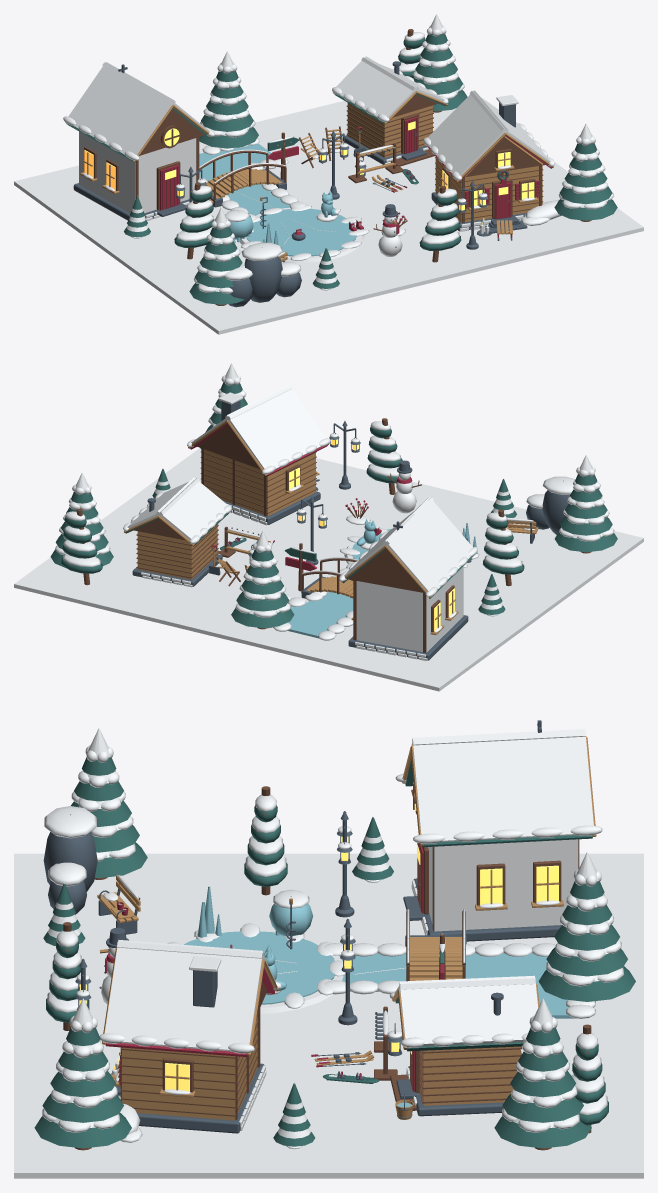
The model's file is frozen_lake_retreat.glb.
3 renders of one model, top to bottom at view 1: azimuth 30°, elevation 25°; view 2: azimuth 150°, elevation 25°; view 3: azimuth 270°, elevation 25°, orthographic. The views are drawn at different scales.
Visible parts, largest first — view 1: 032-snowfall-mountain-chapel/snowfall-mountain-chapel-snow, 030-chalet-evergreen/chalet-evergreen-snow, 031-cedar-sauna-house/cedar-sauna-house-snow, 033-frozen-skating-pond/frozen-skating-pond-ice, 014-packed-snow-tile/packed-snow-tile-snow, 030-chalet-evergreen/chalet-evergreen-oak, 030-chalet-evergreen/chalet-evergreen-wood, 002-packed-snow-tile/packed-snow-tile-snow, 019-packed-snow-tile/packed-snow-tile-snow, 017-packed-snow-tile/packed-snow-tile-snow, 024-packed-snow-tile/packed-snow-tile-snow, 004-packed-snow-tile/packed-snow-tile-snow (+48 smaller); view 2: 032-snowfall-mountain-chapel/snowfall-mountain-chapel-snow, 030-chalet-evergreen/chalet-evergreen-snow, 030-chalet-evergreen/chalet-evergreen-oak, 031-cedar-sauna-house/cedar-sauna-house-snow, 020-packed-snow-tile/packed-snow-tile-snow, 030-chalet-evergreen/chalet-evergreen-wood, 031-cedar-sauna-house/cedar-sauna-house-oak, 003-packed-snow-tile/packed-snow-tile-snow, 000-packed-snow-tile/packed-snow-tile-snow, 015-packed-snow-tile/packed-snow-tile-snow, 025-packed-snow-tile/packed-snow-tile-snow, 002-packed-snow-tile/packed-snow-tile-snow (+42 smaller); view 3: 032-snowfall-mountain-chapel/snowfall-mountain-chapel-snow, 030-chalet-evergreen/chalet-evergreen-snow, 031-cedar-sauna-house/cedar-sauna-house-snow, 030-chalet-evergreen/chalet-evergreen-oak, 026-packed-snow-tile/packed-snow-tile-snow, 027-packed-snow-tile/packed-snow-tile-snow, 028-packed-snow-tile/packed-snow-tile-snow, 003-packed-snow-tile/packed-snow-tile-snow, 022-packed-snow-tile/packed-snow-tile-snow, 017-packed-snow-tile/packed-snow-tile-snow, 025-packed-snow-tile/packed-snow-tile-snow, 056-grand-alpine-fir/grand-alpine-fir-pine (+59 smaller).
Boxes of the visible parts, left/top/right/bottom form: 032-snowfall-mountain-chapel/snowfall-mountain-chapel-snow: left=63, top=62, right=214, bottom=220; 030-chalet-evergreen/chalet-evergreen-snow: left=423, top=90, right=554, bottom=231; 031-cedar-sauna-house/cedar-sauna-house-snow: left=332, top=56, right=448, bottom=164; 033-frozen-skating-pond/frozen-skating-pond-ice: left=246, top=209, right=356, bottom=256; 014-packed-snow-tile/packed-snow-tile-snow: left=333, top=251, right=431, bottom=299; 030-chalet-evergreen/chalet-evergreen-oak: left=435, top=133, right=554, bottom=222; 030-chalet-evergreen/chalet-evergreen-wood: left=435, top=138, right=544, bottom=222; 002-packed-snow-tile/packed-snow-tile-snow: left=96, top=224, right=204, bottom=274; 019-packed-snow-tile/packed-snow-tile-snow: left=397, top=232, right=502, bottom=282; 017-packed-snow-tile/packed-snow-tile-snow: left=309, top=172, right=419, bottom=217; 024-packed-snow-tile/packed-snow-tile-snow: left=462, top=223, right=572, bottom=265; 004-packed-snow-tile/packed-snow-tile-snow: left=177, top=297, right=289, bottom=334; 032-snowfall-mountain-chapel/snowfall-mountain-chapel-snow: left=339, top=497, right=477, bottom=660; 030-chalet-evergreen/chalet-evergreen-snow: left=187, top=384, right=330, bottom=525; 030-chalet-evergreen/chalet-evergreen-oak: left=188, top=420, right=329, bottom=516; 031-cedar-sauna-house/cedar-sauna-house-snow: left=123, top=477, right=231, bottom=587; 020-packed-snow-tile/packed-snow-tile-snow: left=85, top=571, right=196, bottom=622; 030-chalet-evergreen/chalet-evergreen-wood: left=197, top=424, right=316, bottom=516; 031-cedar-sauna-house/cedar-sauna-house-oak: left=124, top=515, right=217, bottom=579; 003-packed-snow-tile/packed-snow-tile-snow: left=494, top=550, right=602, bottom=601; 000-packed-snow-tile/packed-snow-tile-snow: left=368, top=648, right=480, bottom=691; 015-packed-snow-tile/packed-snow-tile-snow: left=155, top=589, right=241, bottom=639; 025-packed-snow-tile/packed-snow-tile-snow: left=14, top=557, right=125, bottom=604; 002-packed-snow-tile/packed-snow-tile-snow: left=463, top=581, right=561, bottom=631; 032-snowfall-mountain-chapel/snowfall-mountain-chapel-snow: left=395, top=729, right=602, bottom=935; 030-chalet-evergreen/chalet-evergreen-snow: left=99, top=939, right=281, bottom=1130; 031-cedar-sauna-house/cedar-sauna-house-snow: left=389, top=975, right=538, bottom=1105; 030-chalet-evergreen/chalet-evergreen-oak: left=102, top=947, right=278, bottom=1120; 026-packed-snow-tile/packed-snow-tile-snow: left=392, top=1119, right=517, bottom=1178; 027-packed-snow-tile/packed-snow-tile-snow: left=266, top=1119, right=391, bottom=1178; 028-packed-snow-tile/packed-snow-tile-snow: left=140, top=1119, right=265, bottom=1178; 003-packed-snow-tile/packed-snow-tile-snow: left=140, top=853, right=265, bottom=906; 022-packed-snow-tile/packed-snow-tile-snow: left=266, top=1066, right=391, bottom=1119; 017-packed-snow-tile/packed-snow-tile-snow: left=266, top=1013, right=391, bottom=1066; 025-packed-snow-tile/packed-snow-tile-snow: left=518, top=1119, right=643, bottom=1178; 056-grand-alpine-fir/grand-alpine-fir-pine: left=34, top=1027, right=131, bottom=1148.
Bounding box in the file's own units: 24 × 6.82 × 20.
